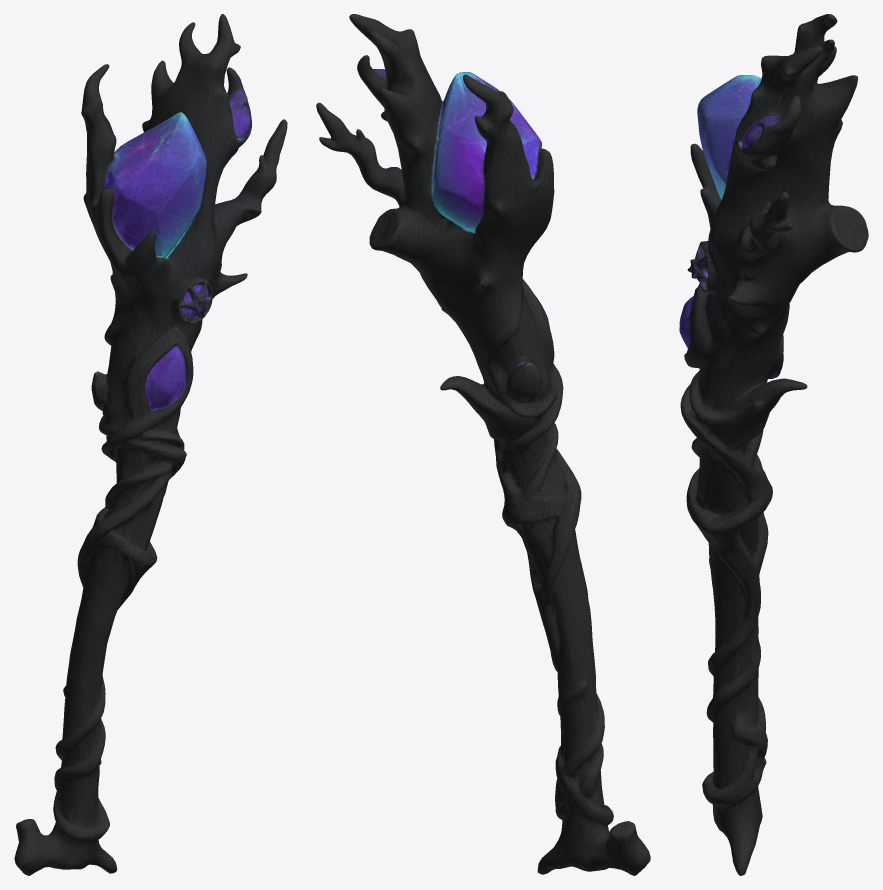
The model's file is staff.glb.
The picture shows the model from 3 angles, left to right: view 1: azimuth 30°, elevation 25°; view 2: azimuth 150°, elevation 25°; view 3: azimuth 270°, elevation 25°; orthographic projection. The views are drawn at different scales.
Bounding box in the file's own units: 0.7243 × 1.9 × 0.3578.
1 material, 1 textured.
